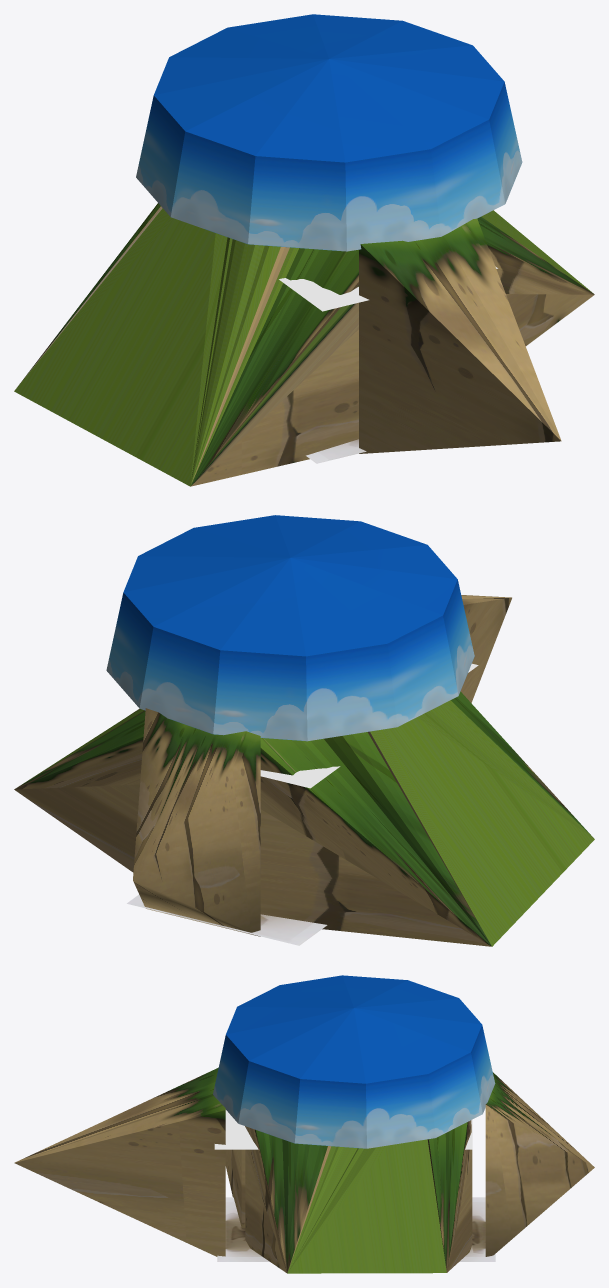
The model's file is gorge.fbx.
3 views of the same model, one above another, from view 1: azimuth 30°, elevation 25°; view 2: azimuth 150°, elevation 25°; view 3: azimuth 270°, elevation 25° (orthographic). The views are drawn at different scales.
Visible parts, largest first — view 1: level1_sky, Level1_shan01, Level1_shan04, Level1_shan03, PlaneNav, Level1_dimian01; view 2: level1_sky, Level1_shan01, Level1_shan02, Level1_shan03, Level1_shan04, Level1_dimian01, PlaneNav; view 3: level1_sky, Level1_shan03, Level1_shan04, Level1_shan02, Level1_dimian01, Level1_shan01, PlaneNav.
Part boxes in pixels (box(x1,y1,x2,y2)): level1_sky: box(136, 14, 522, 251); Level1_shan01: box(14, 203, 358, 486); Level1_shan04: box(359, 218, 561, 453); Level1_shan03: box(477, 210, 594, 345); PlaneNav: box(279, 266, 497, 311); Level1_dimian01: box(306, 439, 366, 463); level1_sky: box(106, 515, 474, 741); Level1_shan01: box(260, 691, 594, 946); Level1_shan02: box(133, 708, 260, 936); Level1_shan03: box(14, 708, 145, 872); Level1_shan04: box(460, 595, 511, 702); Level1_dimian01: box(127, 894, 327, 945); PlaneNav: box(260, 663, 478, 788); level1_sky: box(213, 975, 495, 1148); Level1_shan03: box(245, 1120, 472, 1273); Level1_shan04: box(14, 1067, 225, 1256); Level1_shan02: box(485, 1072, 594, 1256); Level1_dimian01: box(217, 1197, 495, 1261); Level1_shan01: box(225, 1149, 245, 1228); PlaneNav: box(214, 1110, 472, 1149).
Bounding box in the file's own units: 50080 × 31606 × 70361.
